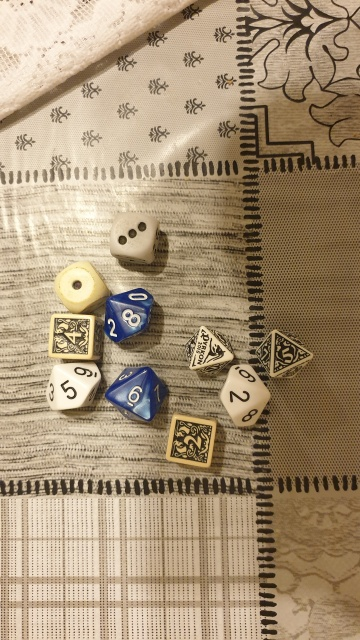d10-2: (213, 358, 270, 435)
d10-5: (34, 360, 104, 414)
d10-6: (102, 364, 175, 427)
d10-8: (100, 286, 158, 346)
d6-1: (45, 260, 113, 314)
d6-3: (108, 209, 166, 264)
d6p-2: (162, 413, 222, 470)
d6p-4: (44, 312, 101, 363)
d8p-1: (183, 326, 235, 379)
d8p-5: (254, 324, 315, 386)
